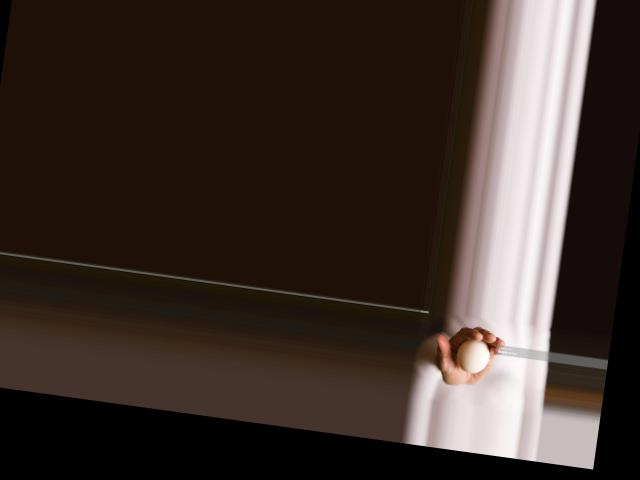egg: (454, 336, 492, 374)
